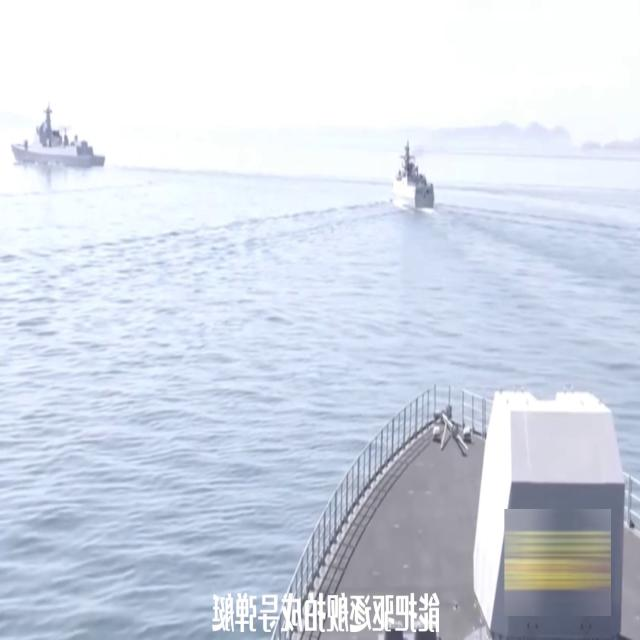navalvessels: (13, 97, 108, 168), (394, 130, 441, 210)
